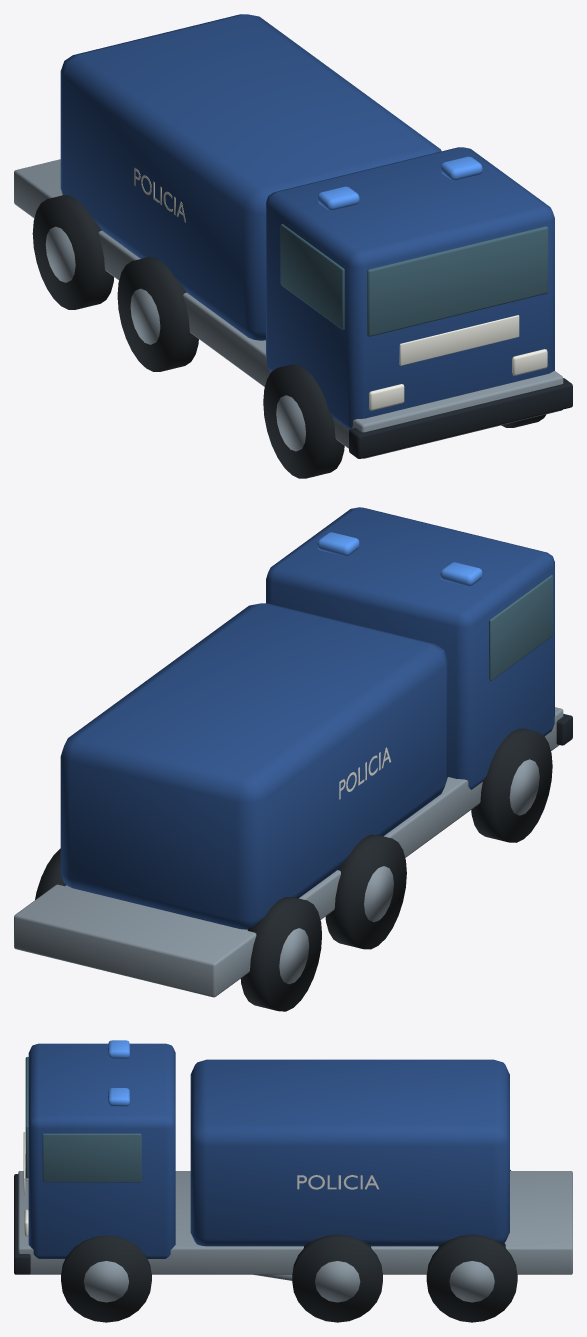
The model's file is water-cannon.glb.
3 renders of one model, top to bottom at view 1: azimuth 30°, elevation 25°; view 2: azimuth 150°, elevation 25°; view 3: azimuth 270°, elevation 25°, orthographic. The views are drawn at different scales.
Visible parts, largest first — view 1: water tank, cab, windshield, chassis, front bumper, tire.001, tire.002, tire, cab side window, POLICIA panel, wheel hub.002, wheel hub.001 (+5 smaller); view 2: water tank, cab, chassis, tire.002, tire.001, tire, cab side window, wheel hub.002, wheel hub, wheel hub.001, beacon, beacon.001 (+1 smaller); view 3: water tank, cab, chassis, tire.005, tire.004, cab side window.001, tire.003, wheel hub.004, wheel hub.005, wheel hub.003, front bumper, Text.001 (+3 smaller).
Boxes of the visible parts, x1,y1,x2,y2 form: water tank: (60,14,441,340); cab: (266,147,554,429); windshield: (367,226,548,336); chassis: (14,159,563,458); front bumper: (349,378,572,458); tire.001: (117,257,198,371); tire.002: (32,195,113,309); tire: (263,364,344,478); cab side window: (280,224,344,329); POLICIA panel: (399,315,519,365); wheel hub.002: (45,226,75,282); wheel hub.001: (130,288,160,344); water tank: (60,603,447,929); cab: (266,507,554,789); chassis: (14,707,563,997); tire.002: (240,897,321,1011); tire.001: (325,834,406,949); tire: (471,728,552,842); cab side window: (489,575,552,680); wheel hub.002: (279,928,309,984); wheel hub: (509,759,539,815); wheel hub.001: (364,866,393,922); beacon: (440,562,482,586); beacon.001: (317,532,359,556); water tank: (190,1059,509,1246); cab: (28,1043,175,1258); chassis: (18,1171,572,1274); tire.005: (426,1234,517,1322); tire.004: (292,1234,382,1322); cab side window.001: (42,1133,141,1182); tire.003: (61,1235,151,1322); wheel hub.004: (315,1261,360,1302); wheel hub.005: (449,1261,494,1302); wheel hub.003: (83,1261,128,1302); front bumper: (14,1174,30,1274); Text.001: (297,1175,379,1189).
Size of the model in its own units: 2.56 by 2.78 by 6.65.
